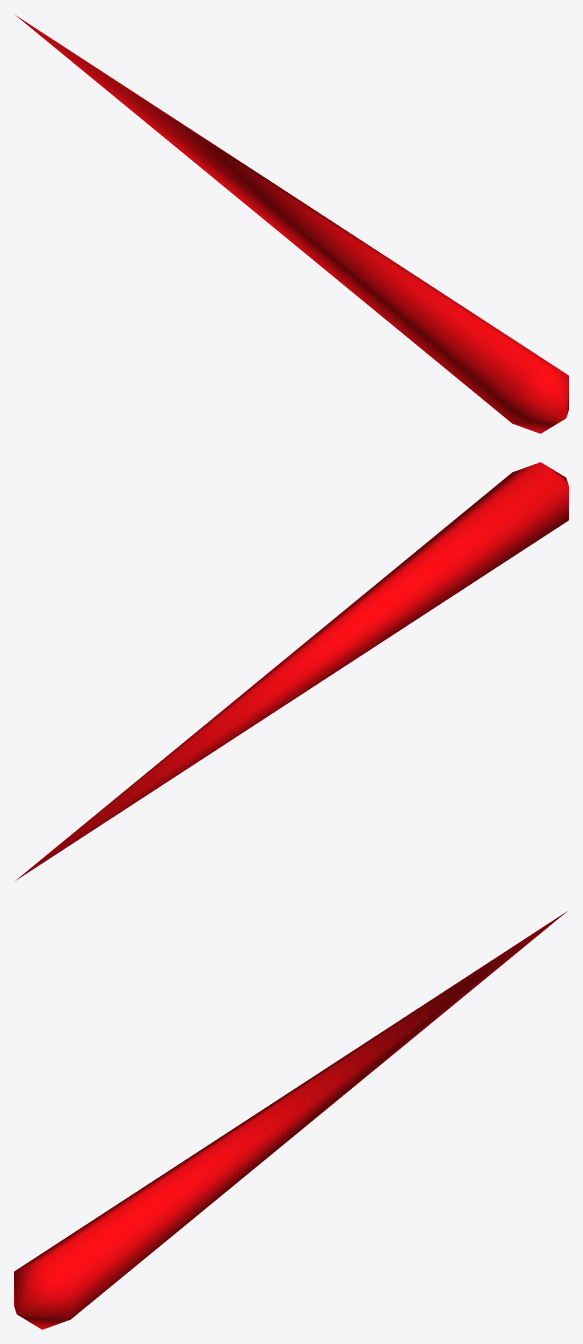
File: Projectile Laser 01 Red.FBX
The picture shows the model from 3 angles, top to bottom: view 1: azimuth 30°, elevation 25°; view 2: azimuth 150°, elevation 25°; view 3: azimuth 330°, elevation 25°; orthographic projection.
Visible parts, largest first — view 1: Projectile Laser 01 Red; view 2: Projectile Laser 01 Red; view 3: Projectile Laser 01 Red.
Boxes of the visible parts, box(x1,y1,x2,y2) form: Projectile Laser 01 Red: box(15, 15, 568, 433); Projectile Laser 01 Red: box(15, 462, 568, 880); Projectile Laser 01 Red: box(14, 911, 567, 1329).
Bounding box in the file's own units: 5.66 × 6.54 × 95.61.
